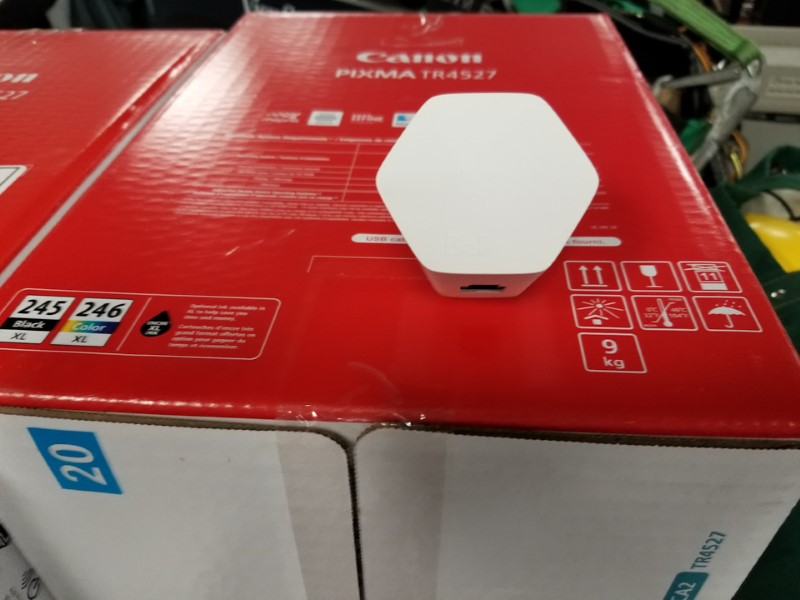pod: (372, 92, 616, 303)
